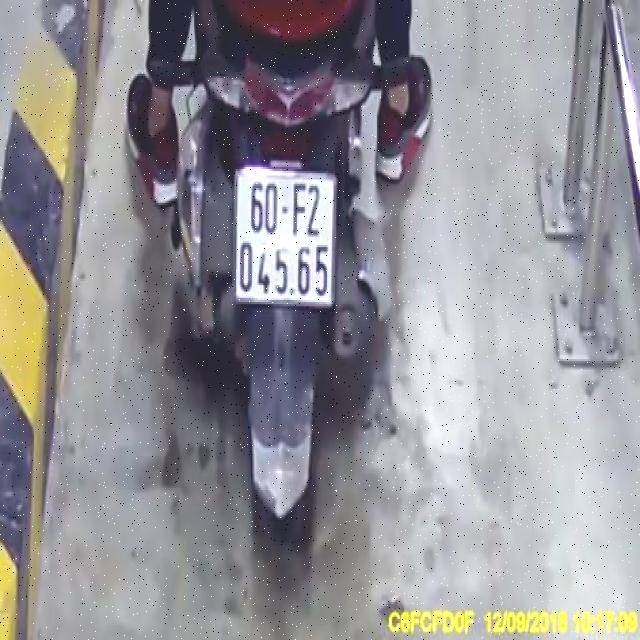0: (236, 234, 254, 294), (264, 180, 278, 232)
2: (308, 181, 320, 238)
4: (254, 236, 272, 293)
5: (273, 237, 289, 297), (315, 240, 329, 298)
6: (292, 238, 312, 299), (249, 178, 263, 232)
F: (291, 179, 309, 240)
